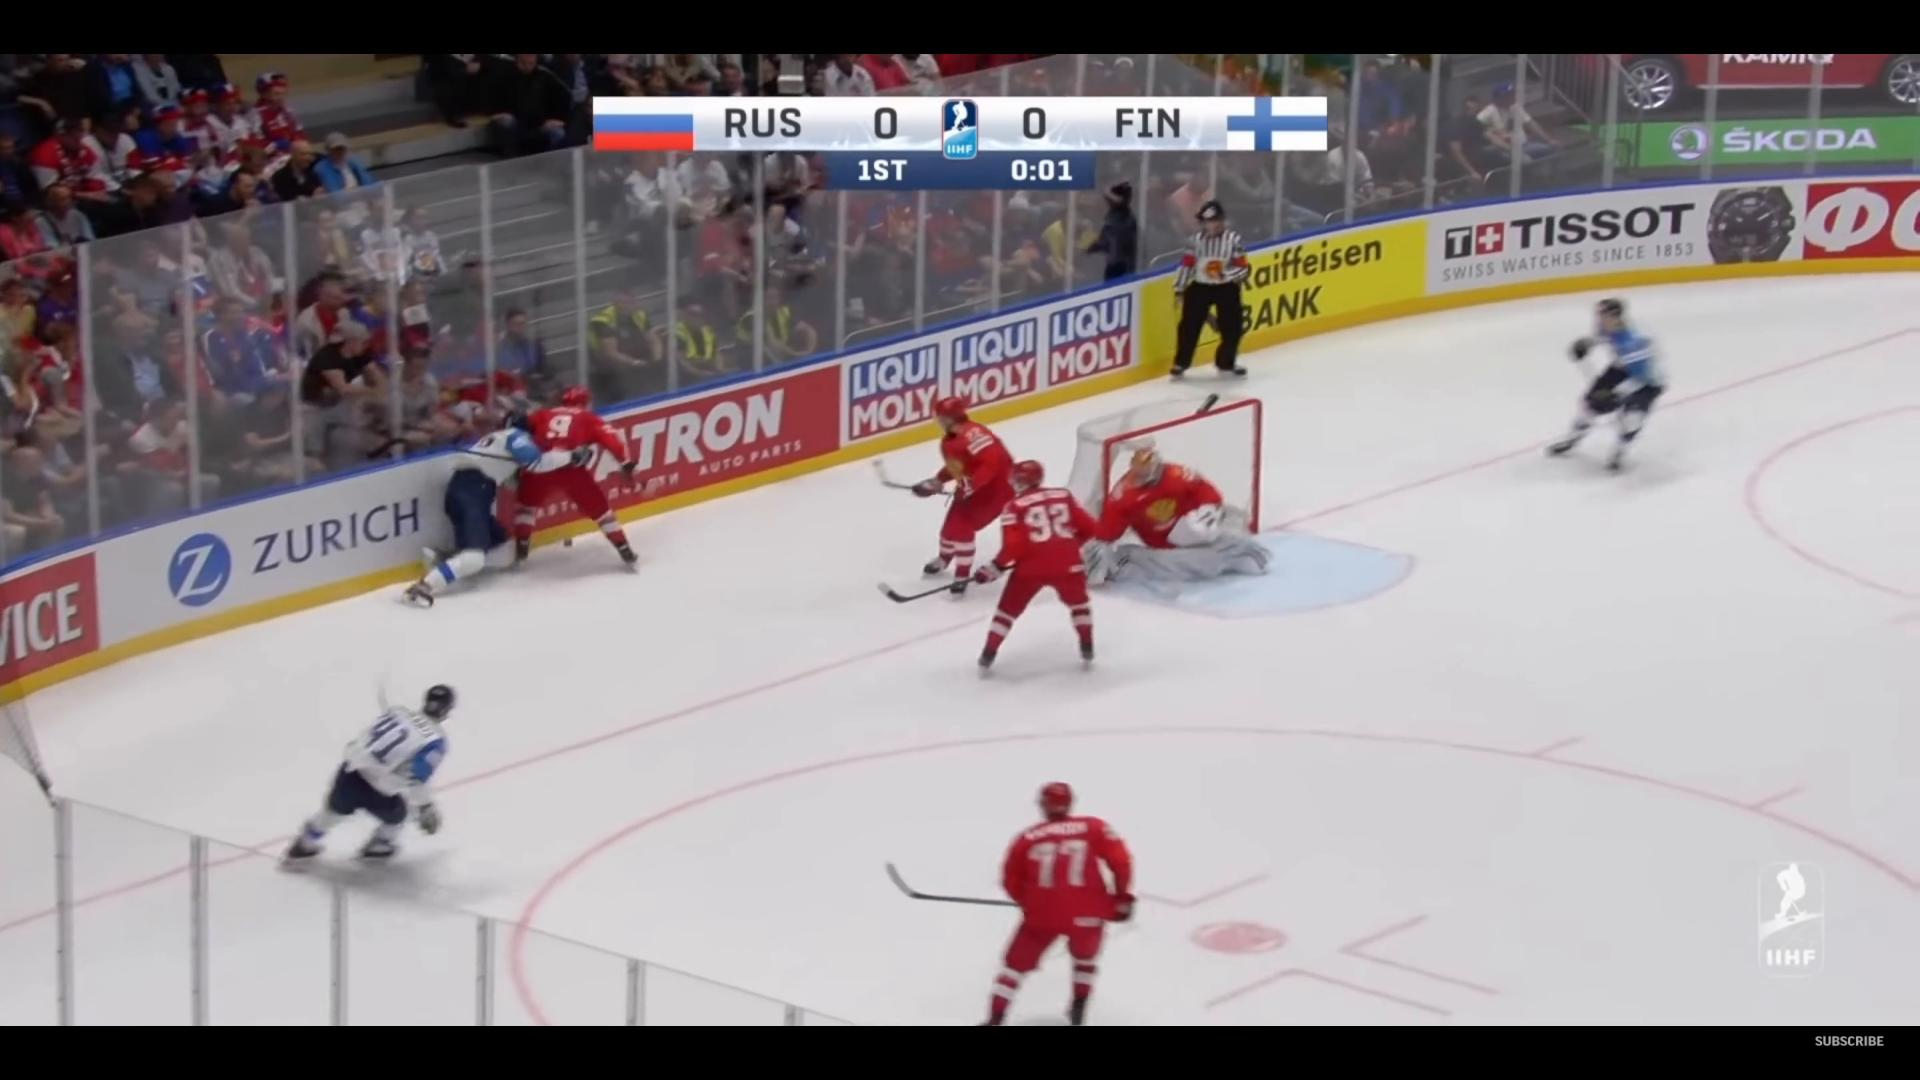puck: (563, 538, 571, 547)
